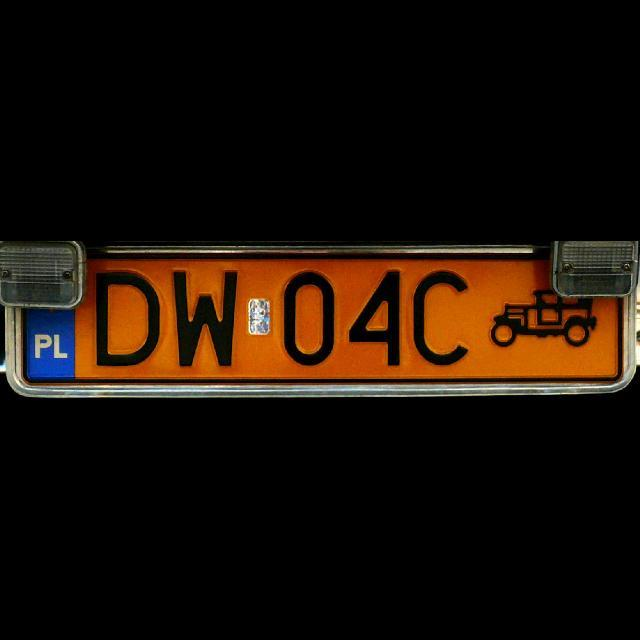license-plates: (0, 242, 638, 396)
